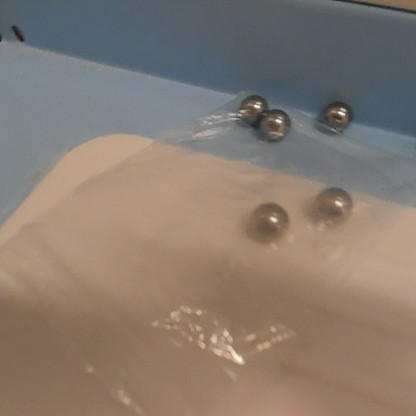ironball: (310, 181, 351, 230), (247, 200, 290, 242), (257, 106, 292, 142), (320, 100, 354, 137), (237, 90, 271, 123)
